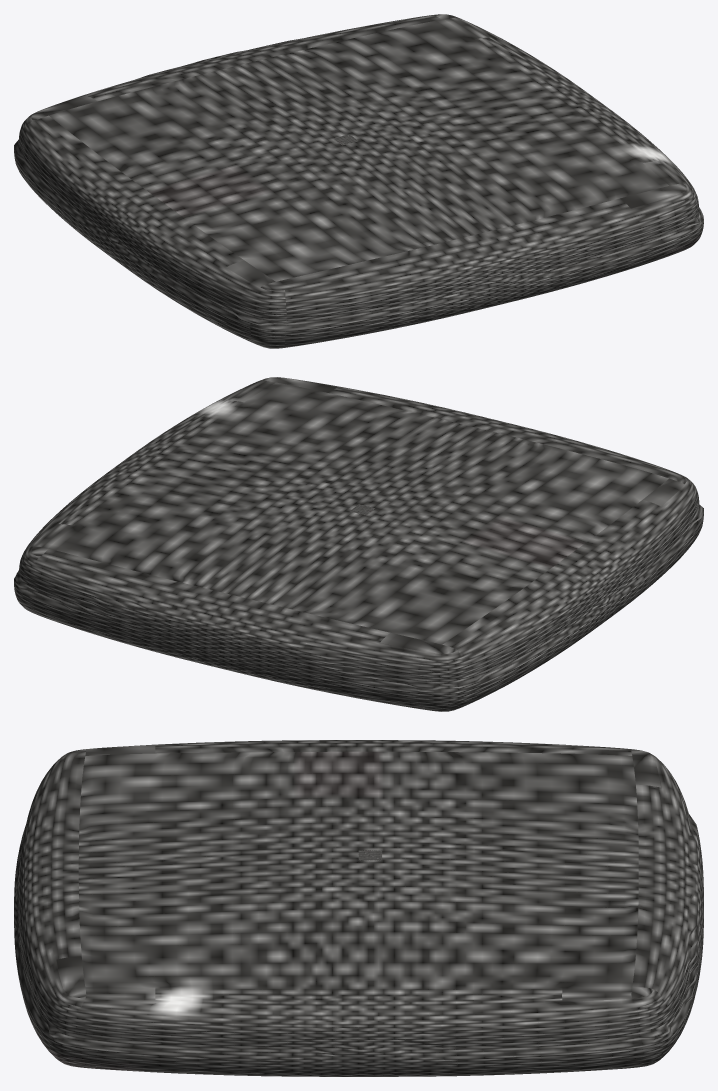
The model's file is box_lid.gltf.
The picture shows the model from 3 angles, top to bottom: view 1: azimuth 30°, elevation 25°; view 2: azimuth 150°, elevation 25°; view 3: azimuth 270°, elevation 25°; orthographic projection. The views are drawn at different scales.
Parts seen in each view (by area): view 1: 001_Cube.002; view 2: 001_Cube.002; view 3: 001_Cube.002.
Boxes of the visible parts, x1,y1,x2,y2 form: 001_Cube.002: [14, 14, 703, 348]; 001_Cube.002: [14, 377, 703, 711]; 001_Cube.002: [14, 740, 703, 1076].
Size of the model in its own units: 0.4835 by 0.0664 by 0.4835.
1 material, 1 textured.
